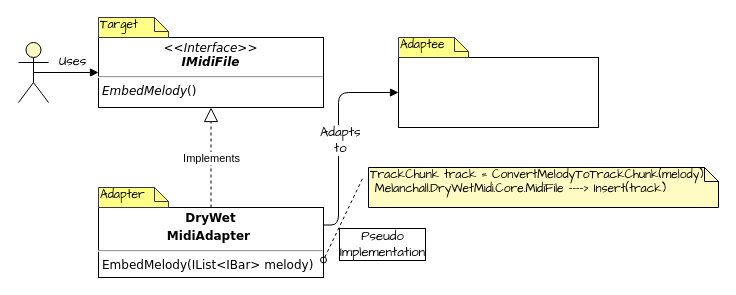
The diagram is 736 pixels wide and 295 high, and some of its shapes have lost their labels. The box of each missing label's shape, as (x1, y1, x2, y2) in pixels:
Client: (18, 42, 48, 102)
Melanchall.DryWetMidi .Core. MidiFile Insert(TrackChunk): (398, 56, 598, 128)
